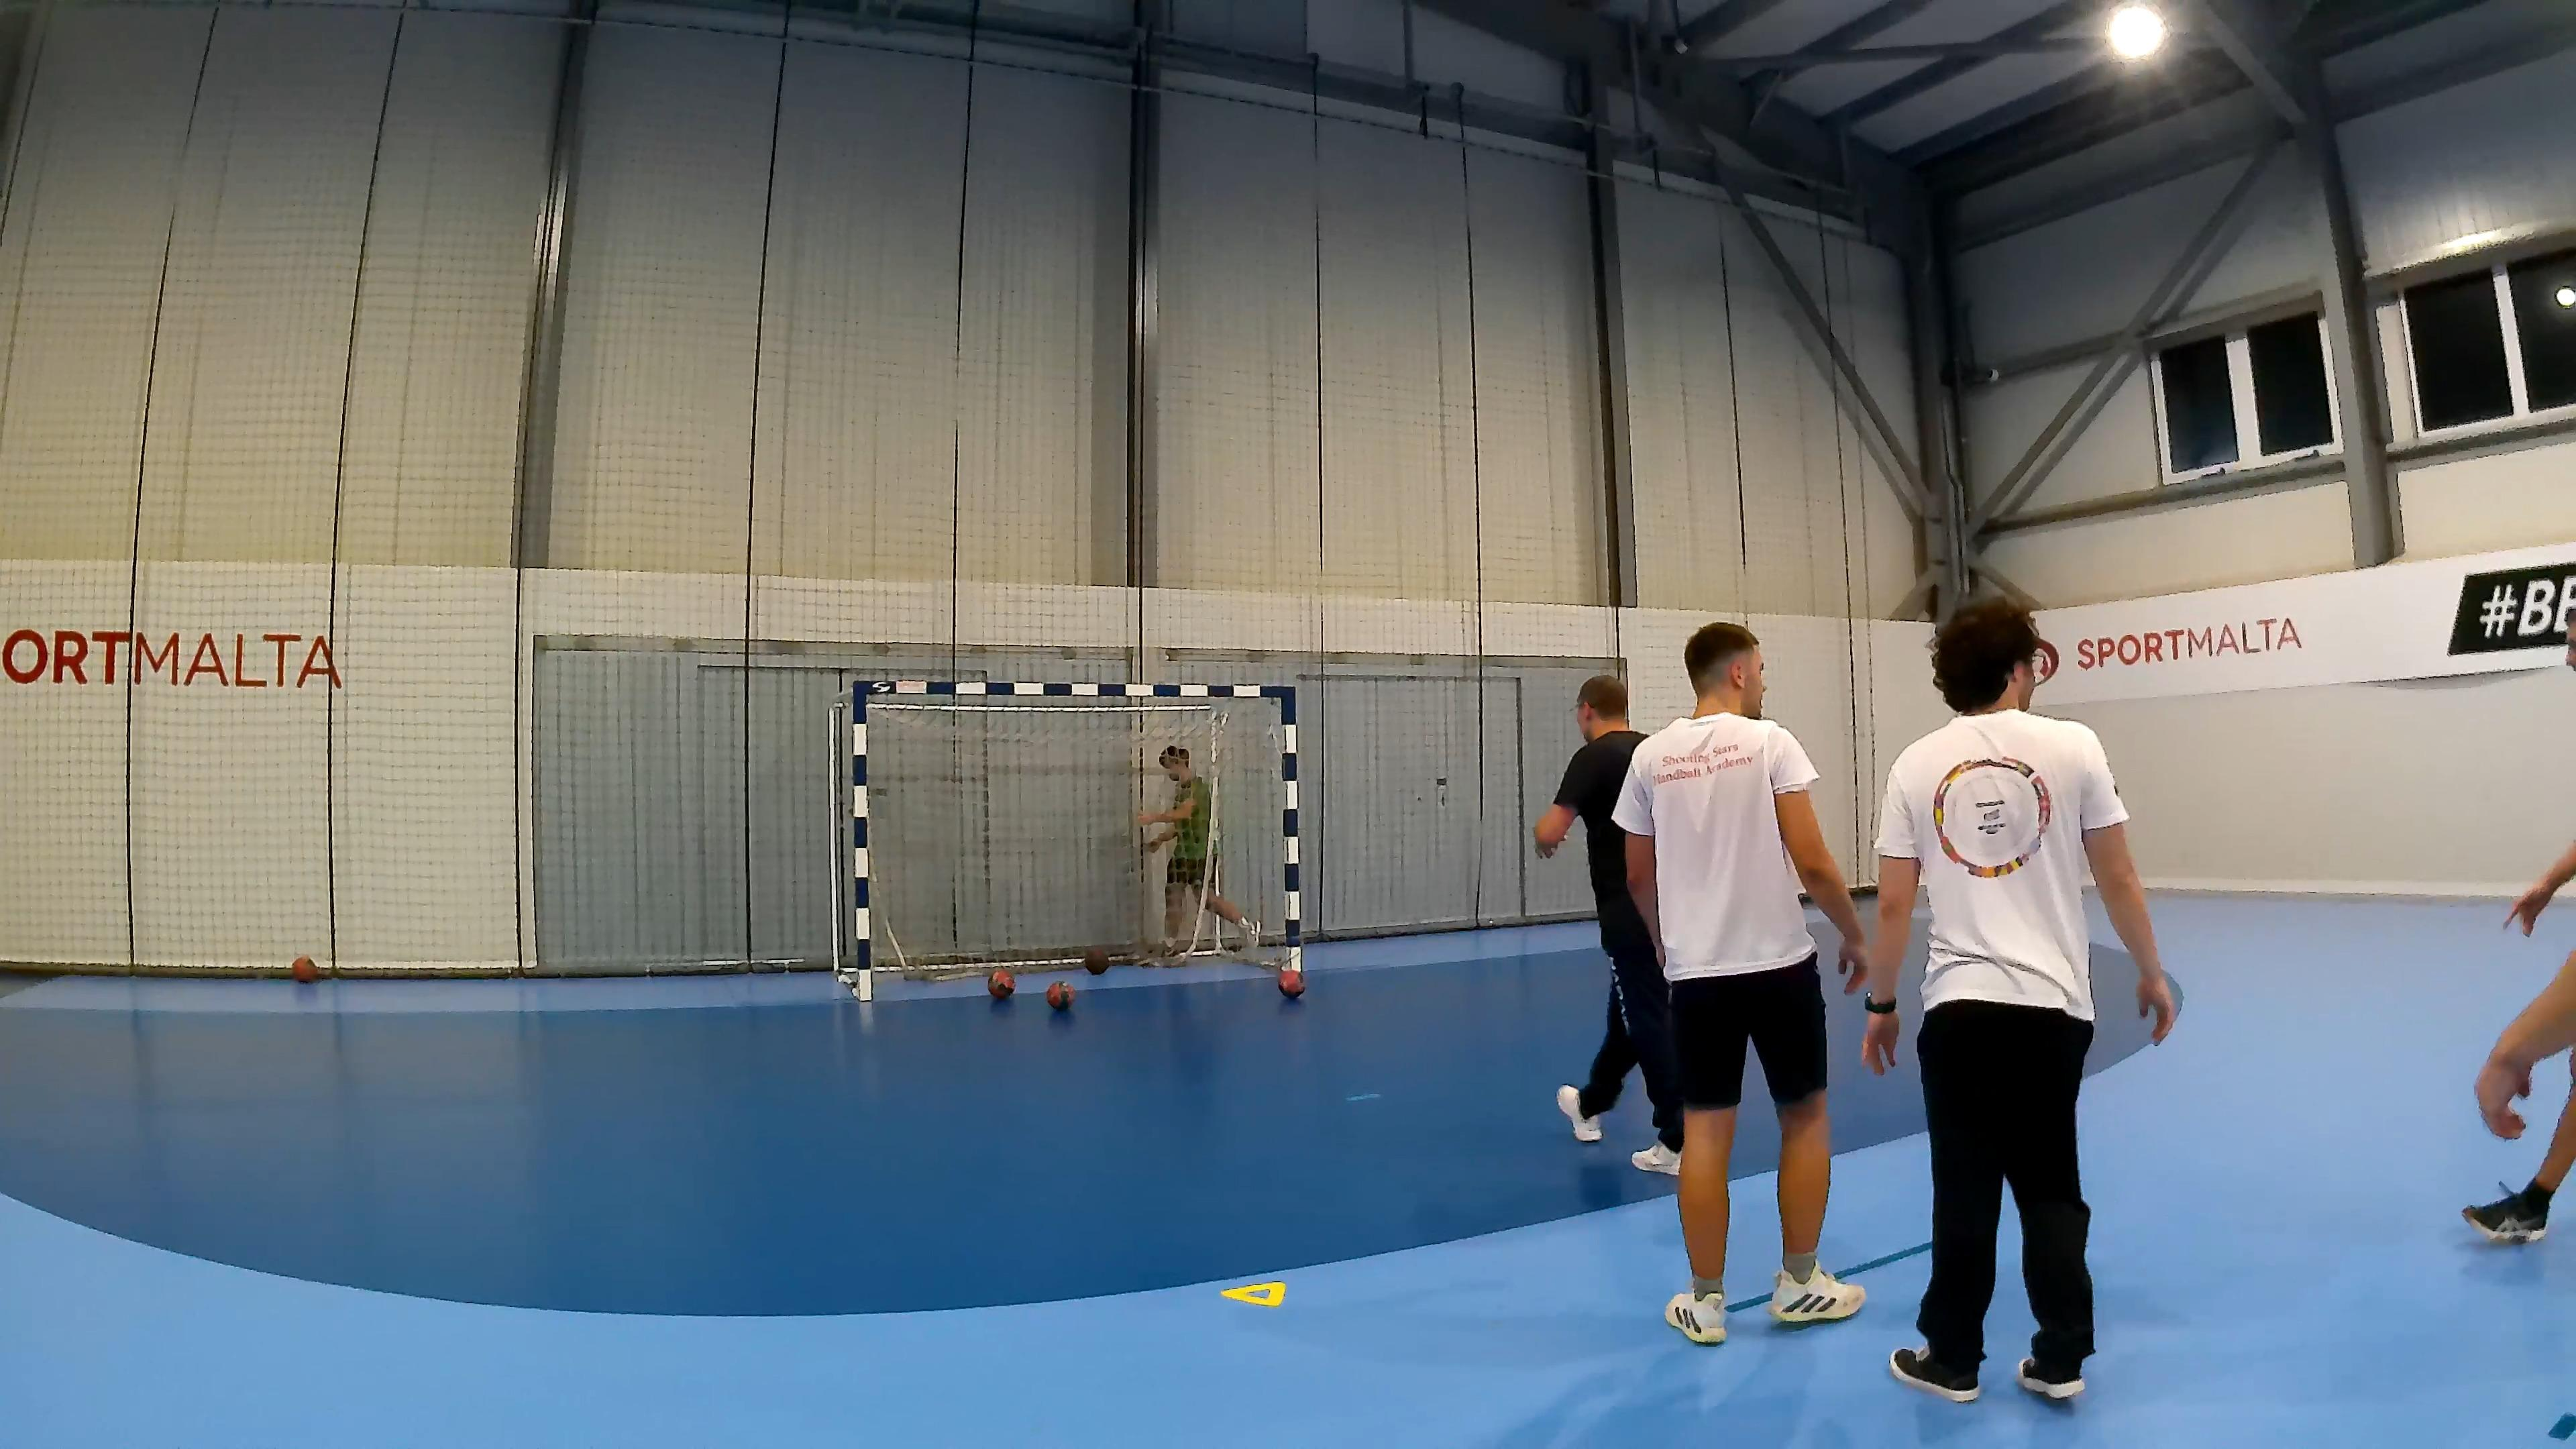handball: (295, 943, 322, 993), (1044, 980, 1074, 1008), (1277, 966, 1304, 996), (987, 968, 1014, 998), (1083, 945, 1108, 975)
